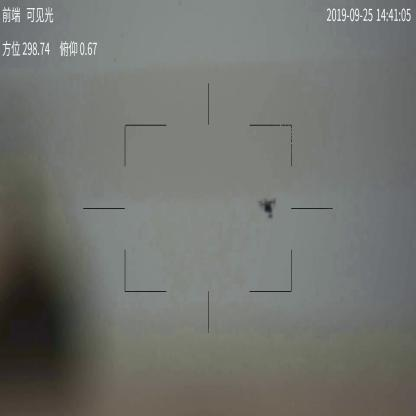uav: (258, 195, 278, 219)
